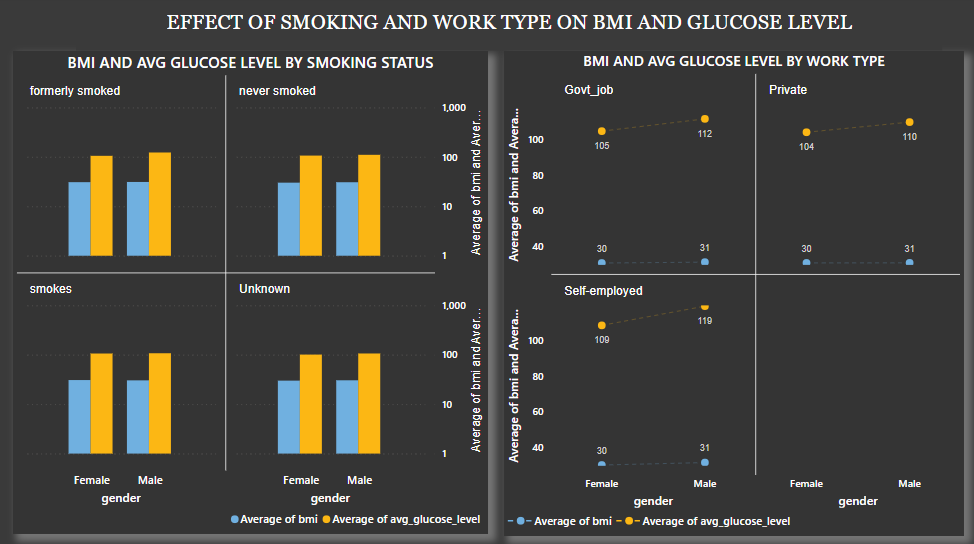

This screenshot's page, from the dashboard's own definition file:
{"tool":"powerbi","page":{"name":"Page 1","canvas":[1280,720],"ordinal":1},"visuals":[{"type":"clusteredColumnChart","title":"BMI AND AVG GLUCOSE LEVEL BY SMOKING STATUS","fields":{"Category":["stroke-prediction-dataset.gender"],"Y":["Avg(stroke-prediction-dataset.bmi)","Avg(stroke-prediction-dataset.avg_glucose_level)"],"Rows":["stroke-prediction-dataset.smoking_status"]},"box":[17,70.7,621.8,632.3],"z":0},{"type":"lineChart","title":"BMI AND AVG GLUCOSE LEVEL BY WORK TYPE","fields":{"Category":["stroke-prediction-dataset.gender"],"Y":["Avg(stroke-prediction-dataset.bmi)","Avg(stroke-prediction-dataset.avg_glucose_level)"],"Rows":["stroke-prediction-dataset.work_type"]},"box":[659.8,70.7,602.2,634.9],"z":1000},{"type":"textbox","box":[99.6,13.3,1134.5,57.1],"z":2000}]}

Visuals, with their boxes in screenshot pixels (x1, y1, x2, y2), scaled from the page's 1280x720 canvas onto the 974x544 screenshot:
"BMI AND AVG GLUCOSE LEVEL BY SMOKING STATUS" clusteredColumnChart: {"x1": 13, "y1": 53, "x2": 486, "y2": 531}
"BMI AND AVG GLUCOSE LEVEL BY WORK TYPE" lineChart: {"x1": 502, "y1": 53, "x2": 960, "y2": 533}
textbox: {"x1": 76, "y1": 10, "x2": 939, "y2": 53}
